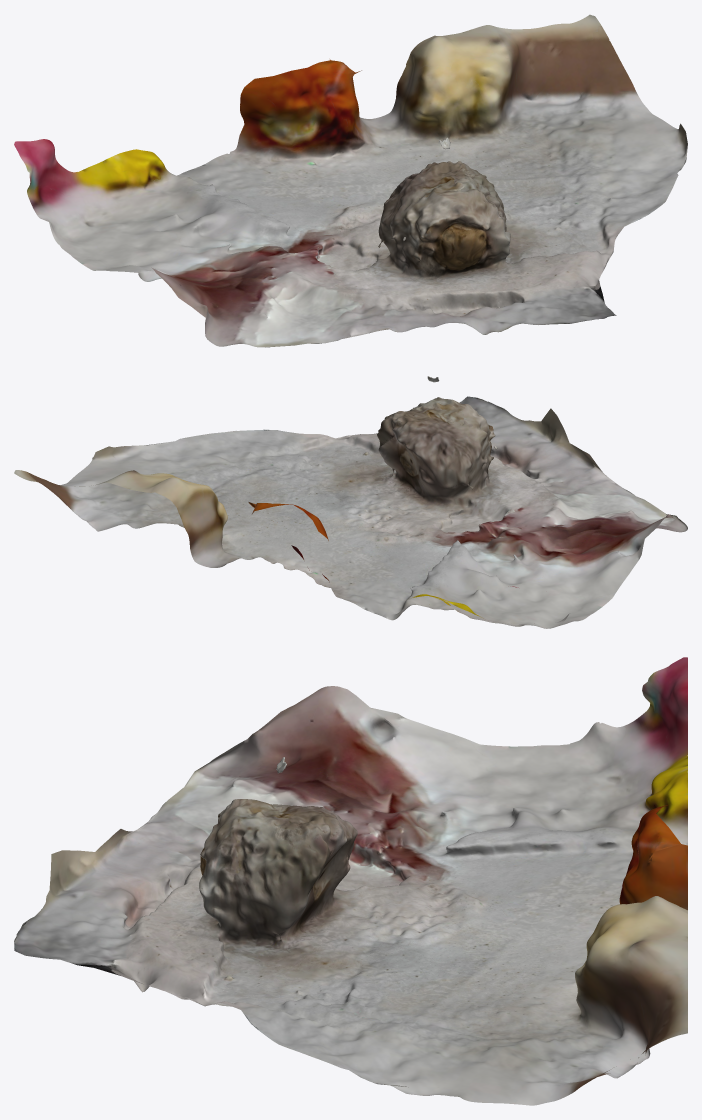
The picture shows the model from 3 angles, top to bottom: view 1: azimuth 30°, elevation 25°; view 2: azimuth 150°, elevation 25°; view 3: azimuth 270°, elevation 25°; orthographic projection. The views are drawn at different scales.
Size of the model in its own units: 4.01 by 0.8984 by 3.16.
Materials: 1 (1 with a texture image).
